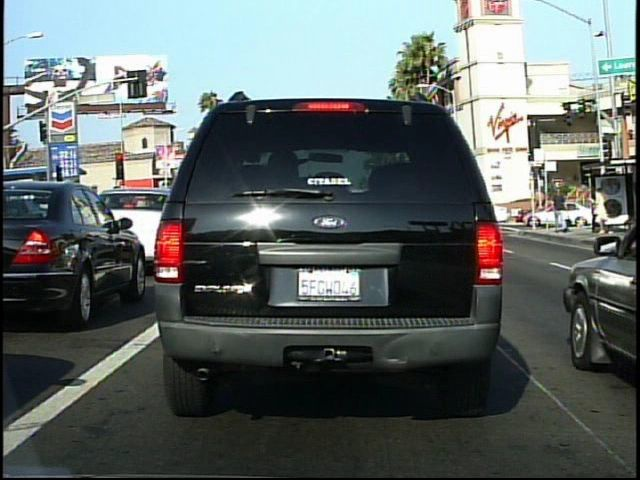person: (587, 182, 615, 239), (550, 184, 571, 237)
